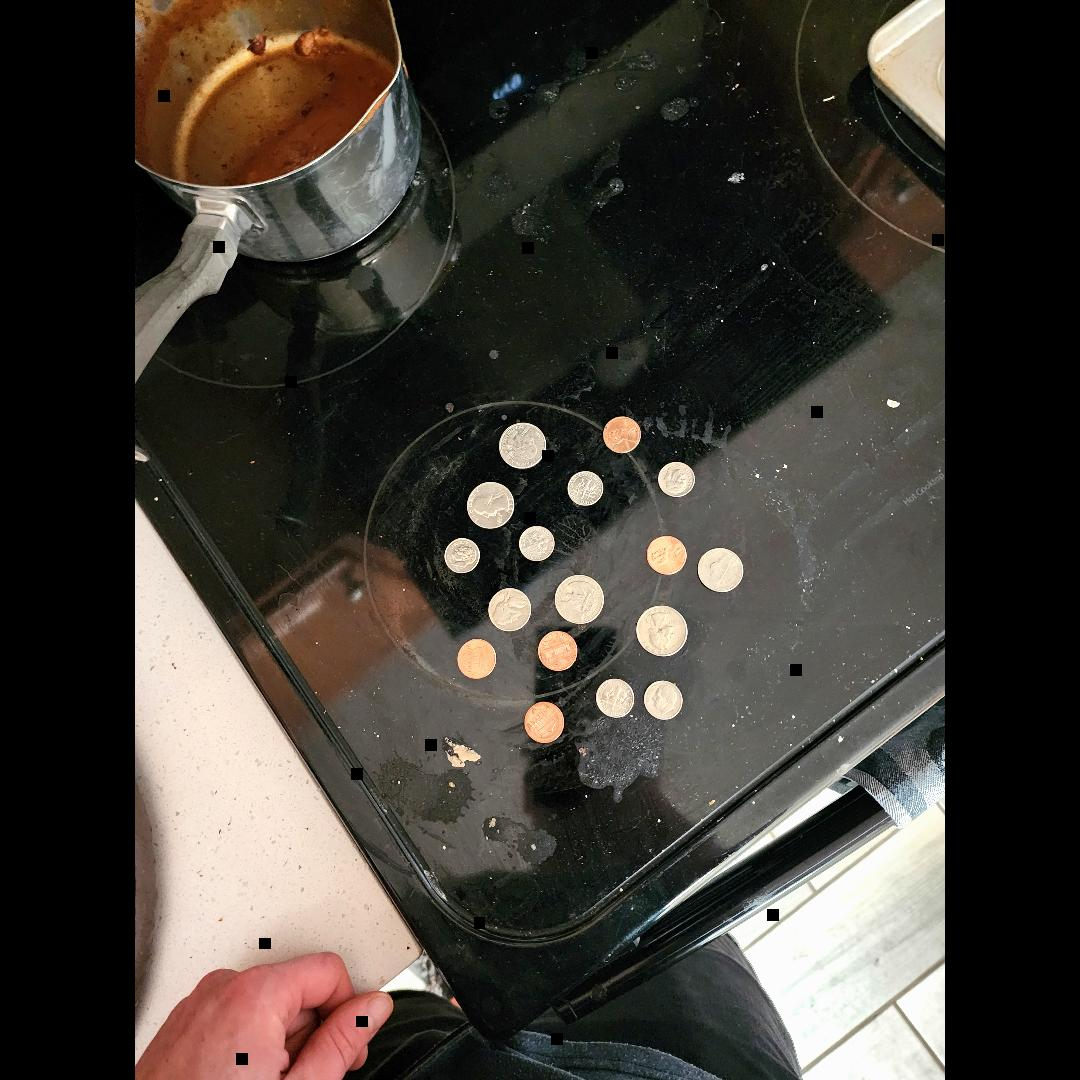Dime: (596, 678, 636, 718), (644, 681, 683, 721), (657, 462, 695, 498), (519, 526, 555, 562), (568, 470, 604, 506), (444, 537, 480, 572)
Nickel: (698, 548, 744, 592), (489, 587, 533, 632)
Penny: (456, 638, 498, 680), (537, 631, 579, 673), (524, 702, 566, 744), (647, 536, 687, 576), (602, 416, 642, 454)
Quarter: (554, 574, 604, 626), (636, 606, 688, 656), (498, 422, 546, 470), (467, 482, 515, 528)
